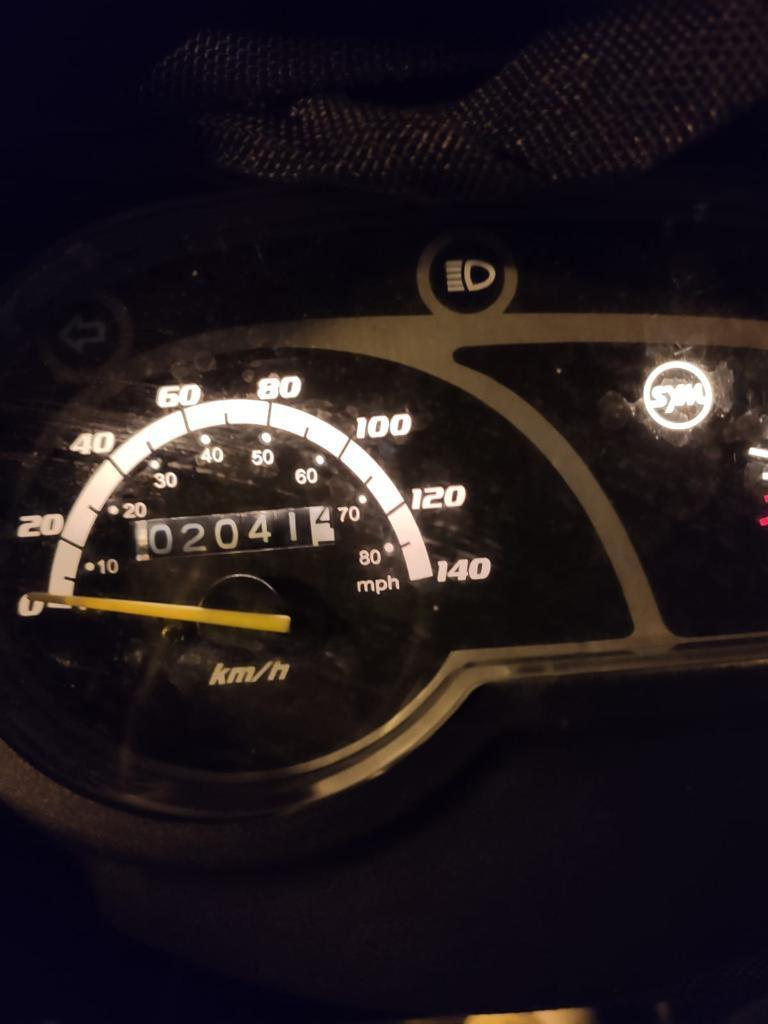0: (211, 517, 240, 553), (147, 522, 174, 556), (133, 501, 149, 517)
1: (285, 508, 300, 544)
2: (179, 520, 208, 554)
4: (246, 513, 273, 544), (313, 503, 335, 531)
odometer: (132, 501, 338, 564)
